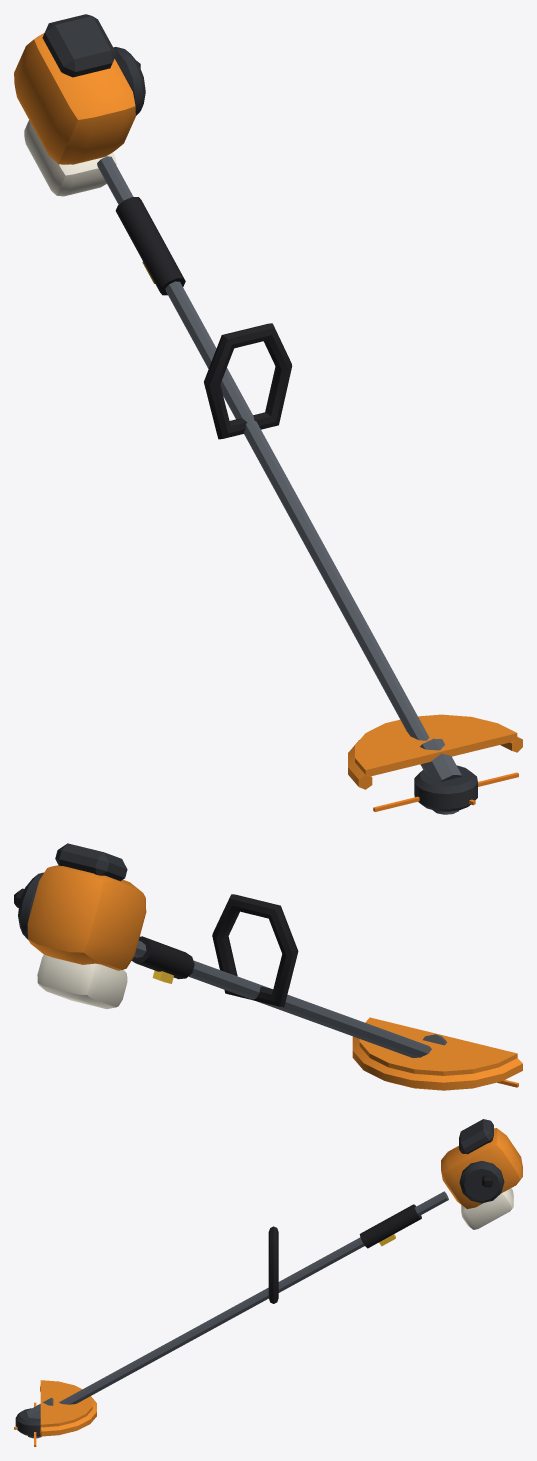
File: tool_trimmer.glb
3 renders of one model, top to bottom at view 1: azimuth 30°, elevation 25°; view 2: azimuth 150°, elevation 25°; view 3: azimuth 270°, elevation 25°, orthographic. The views are drawn at different scales.
Visible parts, largest first — view 1: Tool; view 2: Tool; view 3: Tool.
Boxes of the visible parts, bbox=[...] form: Tool: bbox=[14, 14, 522, 814]; Tool: bbox=[14, 843, 522, 1090]; Tool: bbox=[14, 1119, 522, 1446].
Bounding box in the file's own units: 0.4107 × 1.23 × 1.83.
